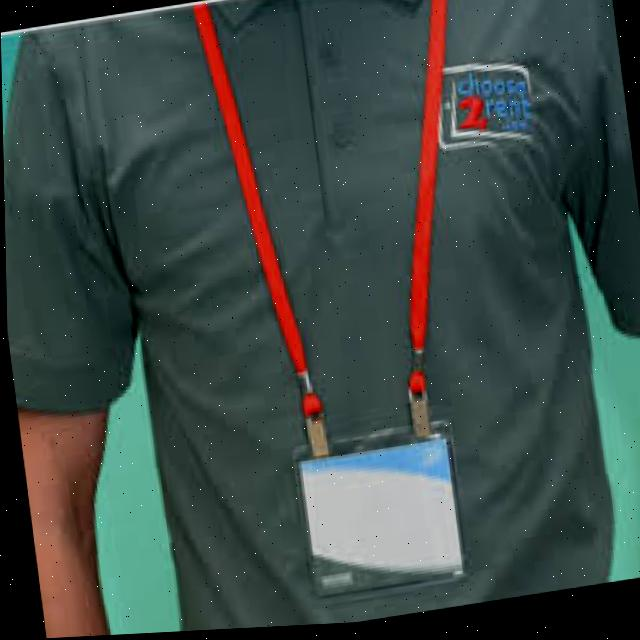id_card: (177, 0, 522, 628)
